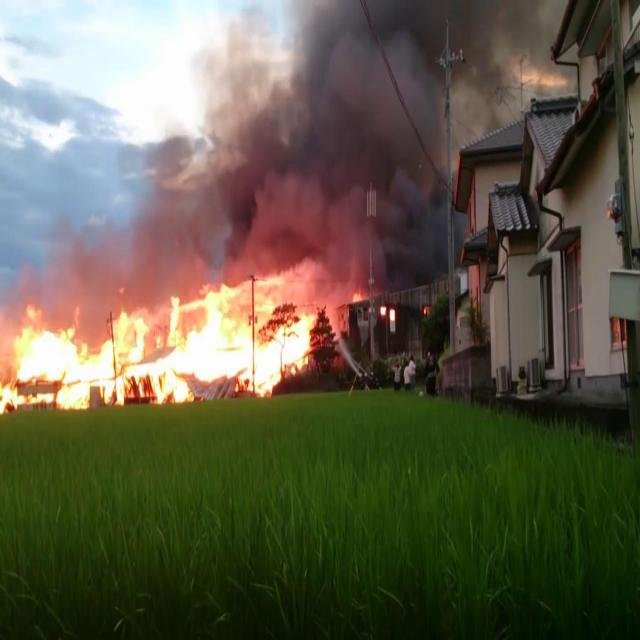fire: (12, 279, 316, 412)
